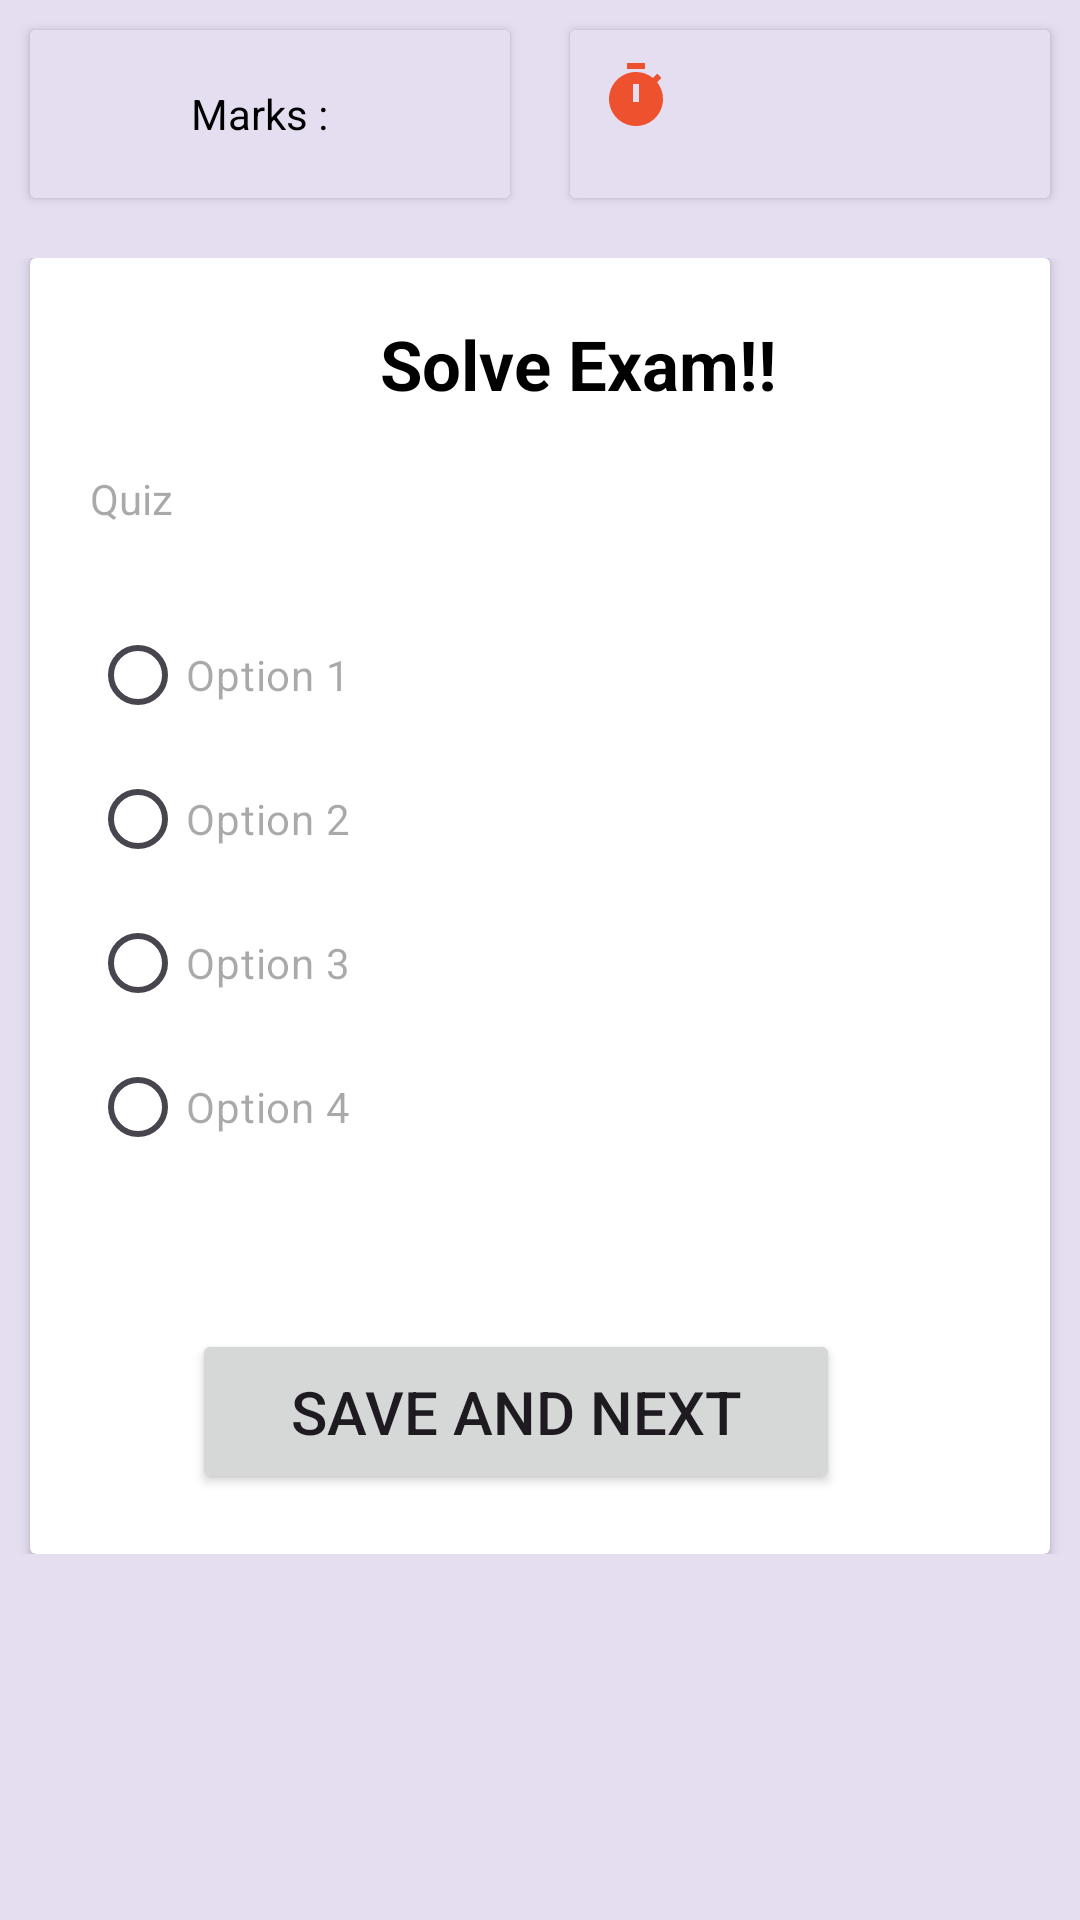

Icons on this 1080*1920 Android screen, each with its box as (x1, y1, x2, y2):
timer: (609, 63, 663, 126)
